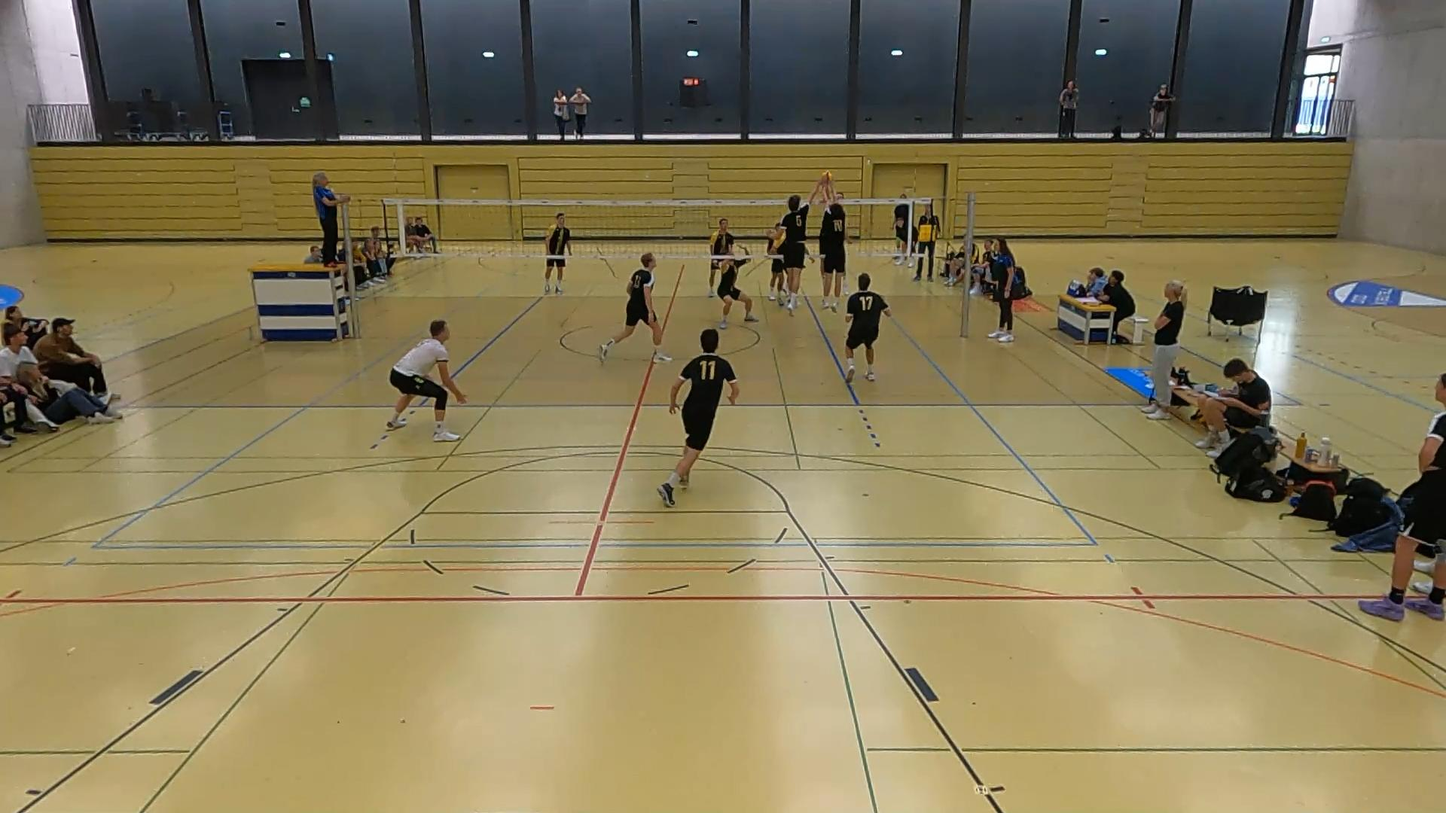Block: (767, 170, 823, 315), (811, 168, 846, 315)
Player: (657, 329, 739, 507), (386, 320, 466, 441), (599, 253, 670, 361), (845, 274, 890, 382), (716, 249, 758, 329), (545, 212, 571, 294), (708, 218, 734, 296), (767, 226, 786, 305)
ball: (815, 169, 835, 186)
